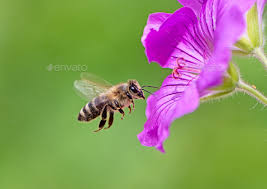insect: (73, 73, 155, 133)
